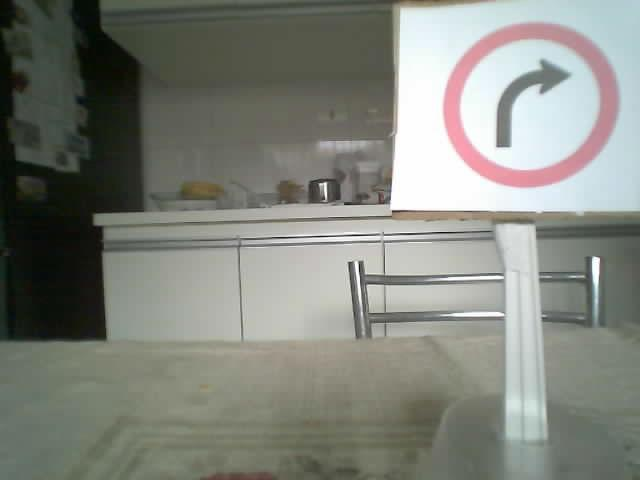R-25b_direita: (439, 20, 616, 188)
